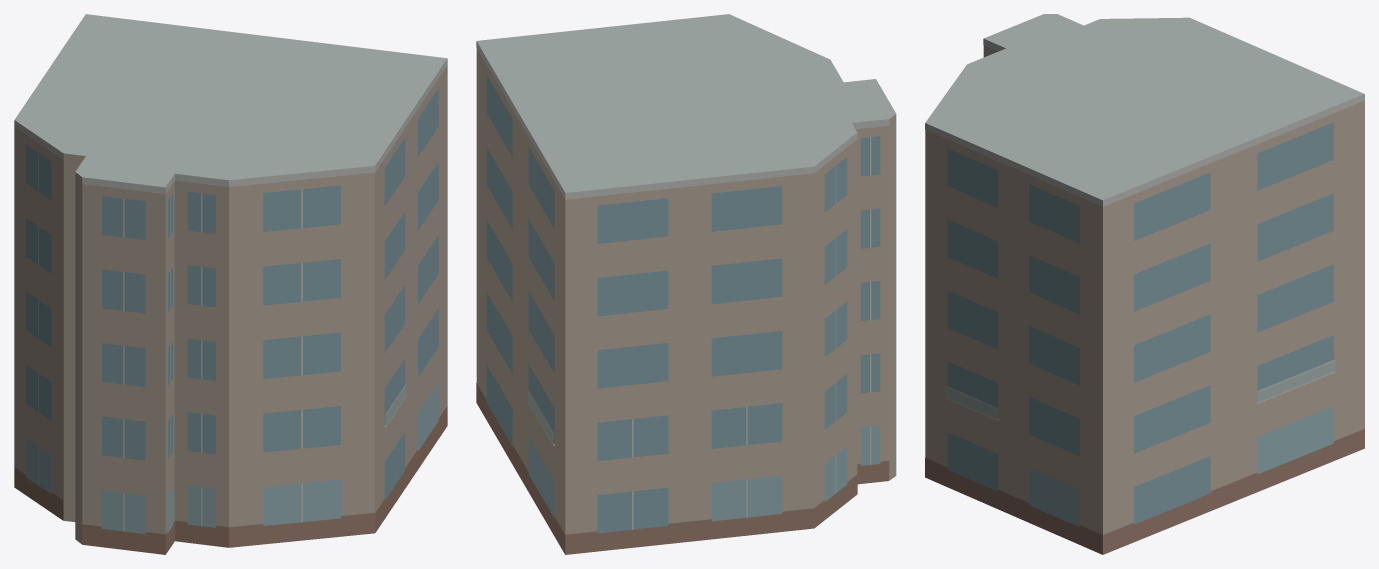
The model's file is survey-upis-33001122.glb.
The picture shows the model from 3 angles, left to right: view 1: azimuth 30°, elevation 25°; view 2: azimuth 150°, elevation 25°; view 3: azimuth 270°, elevation 25°; orthographic projection. The views are drawn at different scales.
Visible parts, largest first — view 1: survey-upis-33001122.tmp; view 2: survey-upis-33001122.tmp; view 3: survey-upis-33001122.tmp.
Boxes of the visible parts, bbox=[...] form: survey-upis-33001122.tmp: bbox=[14, 14, 447, 554]; survey-upis-33001122.tmp: bbox=[476, 14, 896, 554]; survey-upis-33001122.tmp: bbox=[925, 14, 1364, 554].
Size of the model in its own units: 14.89 by 13.2 by 14.85.
